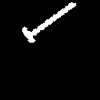half_double_crochet: (22, 2, 75, 41)
